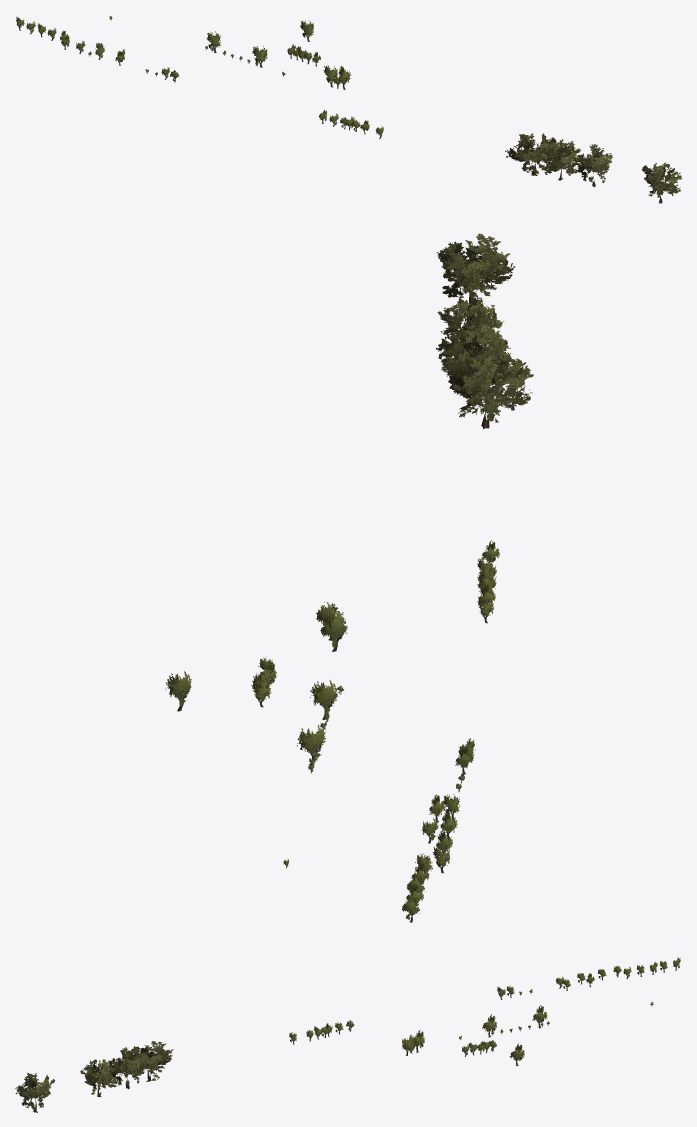
3 renders of one model, top to bottom at view 1: azimuth 30°, elevation 25°; view 2: azimuth 150°, elevation 25°; view 3: azimuth 270°, elevation 25°, orthographic. The views are drawn at different scales.
Parts seen in each view (by area): view 1: jacaranda_tree street foliage, island_tree_01 street foliage, island_tree_01 park bark; view 2: jacaranda_tree street foliage, island_tree_01 street foliage; view 3: jacaranda_tree street foliage, island_tree_01 street foliage, island_tree_01 park bark.
Boxes of the visible parts, x1,y1,x2,y2 form: jacaranda_tree street foliage: (505,133,681,198); island_tree_01 street foliage: (16,16,383,137); island_tree_01 park bark: (17,19,382,138); jacaranda_tree street foliage: (436,233,533,422); island_tree_01 street foliage: (165,540,499,919); jacaranda_tree street foliage: (15,1041,173,1109); island_tree_01 street foliage: (289,957,680,1060); island_tree_01 park bark: (290,965,676,1066).
Size of the model in its own units: 121 by 14.06 by 222.
4 materials, 4 textured.
